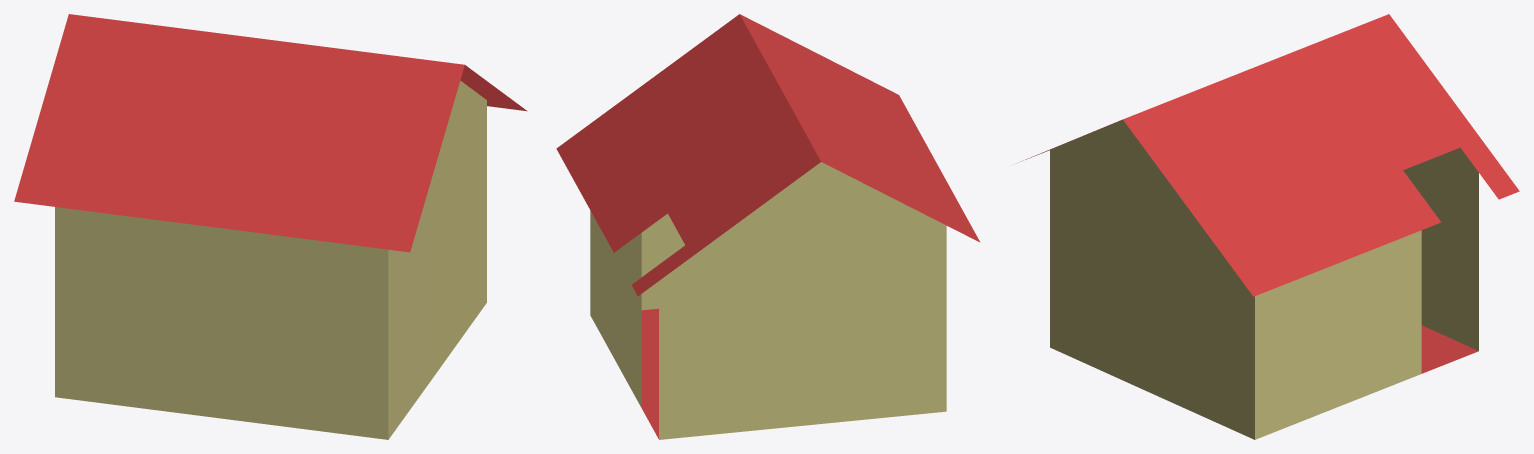
3 views of the same model, side by side, from view 1: azimuth 30°, elevation 25°; view 2: azimuth 150°, elevation 25°; view 3: azimuth 270°, elevation 25° (orthographic). The views are drawn at different scales.
Size of the model in its own units: 17.72 by 17.73 by 10.68.
